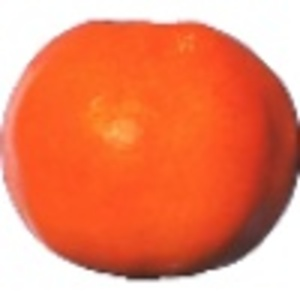tangerina: (1, 17, 300, 282)
